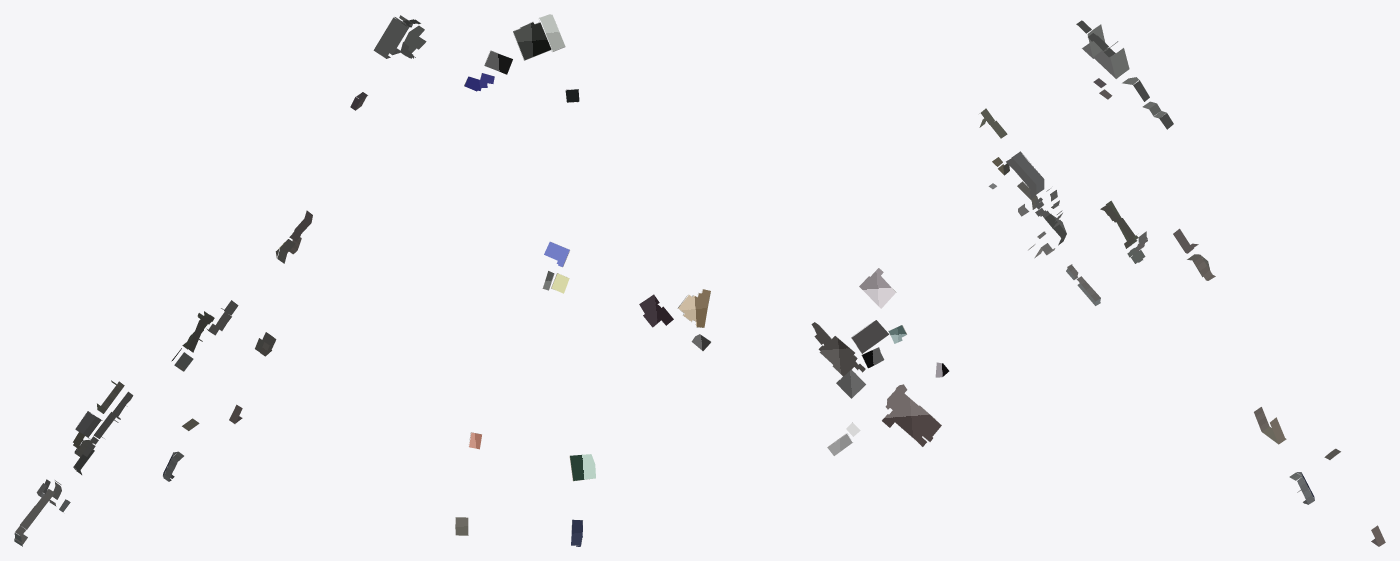
Rendered from tile_LOD3_r4_c1.glb.
3 views of the same model, side by side, from view 1: azimuth 30°, elevation 25°; view 2: azimuth 150°, elevation 25°; view 3: azimuth 270°, elevation 25° (orthographic). The views are drawn at different scales.
Bounding box in the file's own units: 268 × 270 × 179.
85 materials, 56 textured.
